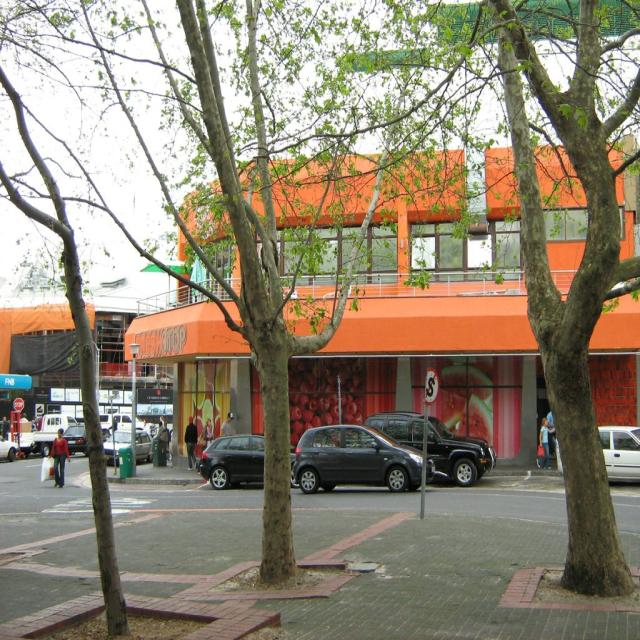car: (292, 419, 437, 493)
